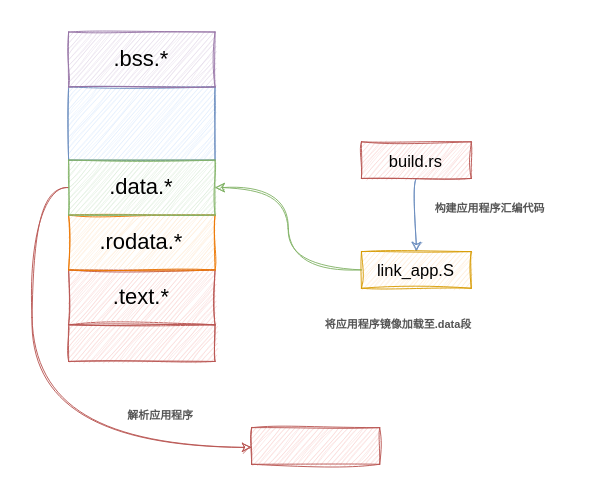
Some shapes in this 595 by 496 pixel diagram are drawn without their labels. Here are the shapes that lost their labels. From the top down, the centre of each, then its label:
At (141,123): ".bss.stack".
At (141,342): ".text.entry".
At (314,445): "APP_MANAGER".
